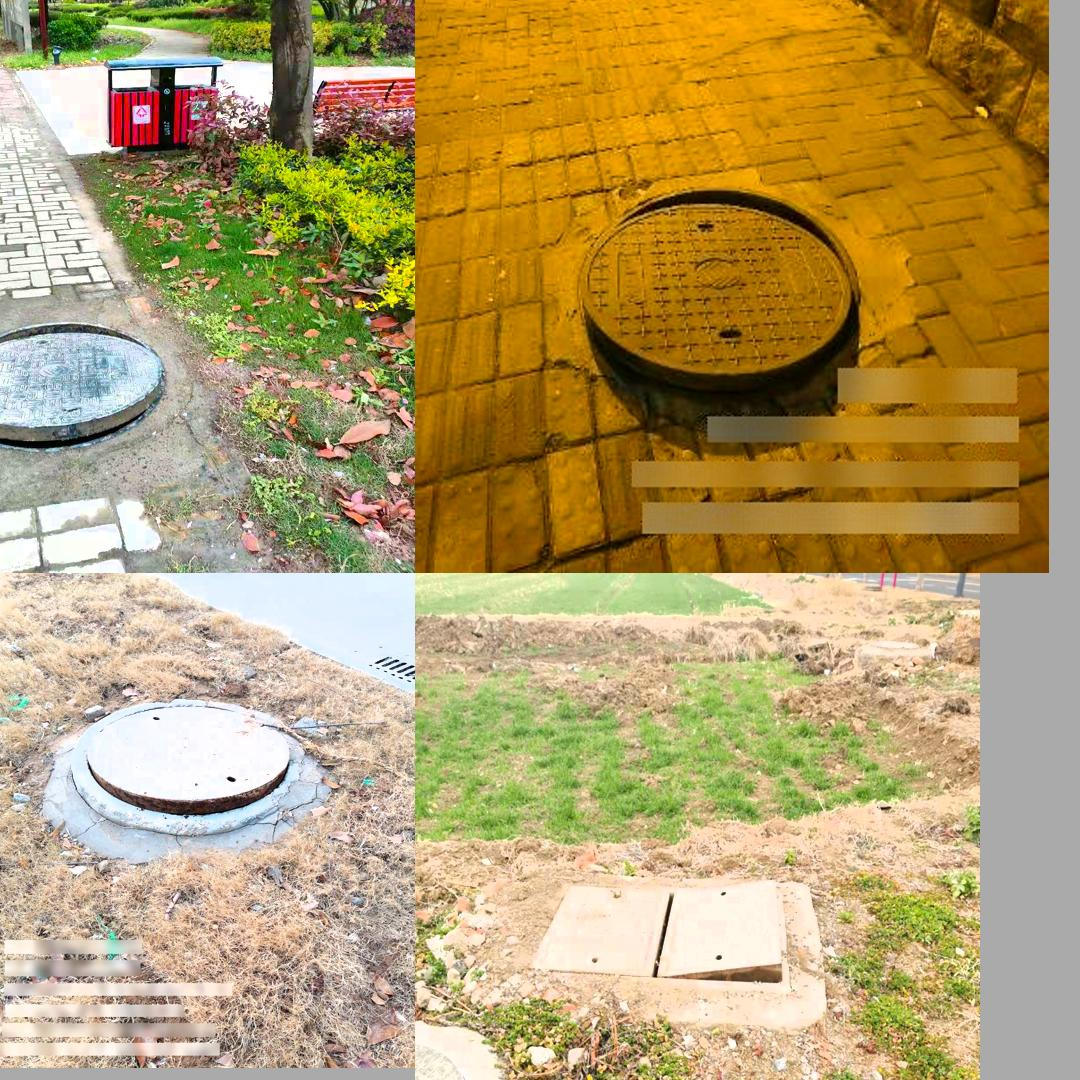uncovered: (580, 179, 862, 386), (71, 700, 301, 838), (528, 876, 789, 992), (0, 303, 181, 462)
